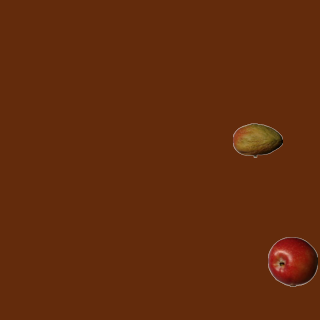Apple Braeburn: (267, 236, 317, 286)
Papaya: (232, 115, 282, 165)
